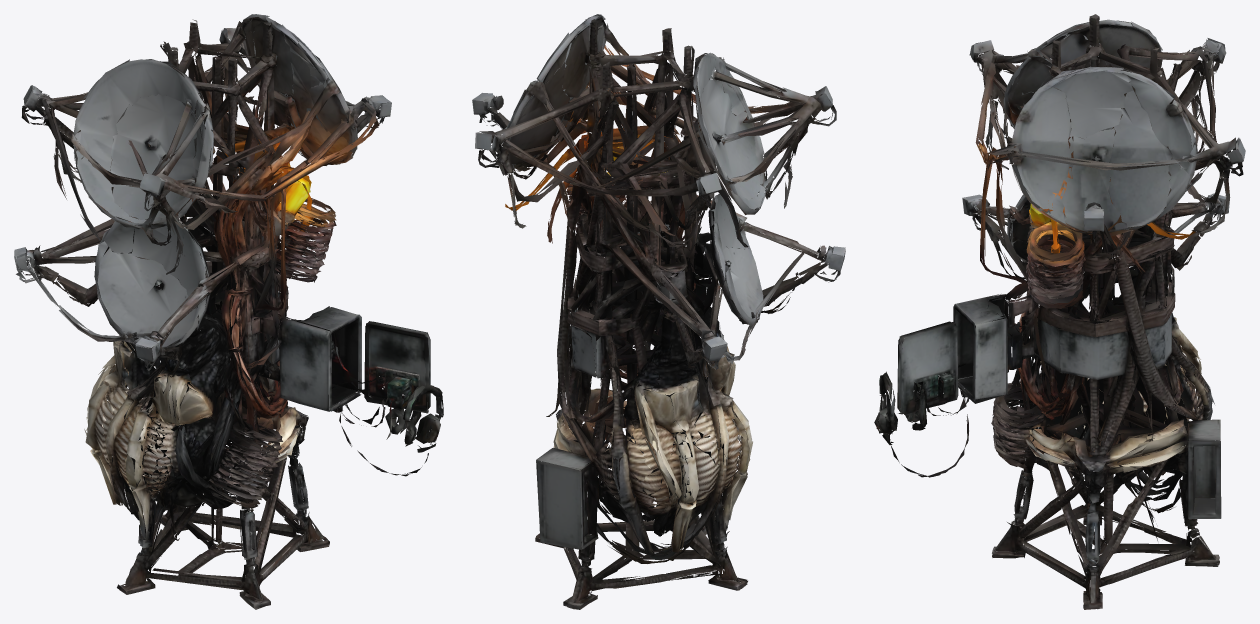
Rendered from crawler_signal_antenna_rig.glb.
3 views of the same model, side by side, from view 1: azimuth 30°, elevation 25°; view 2: azimuth 150°, elevation 25°; view 3: azimuth 270°, elevation 25° (orthographic).
Visible parts, largest first — view 1: node_0; view 2: node_0; view 3: node_0.
Part boxes in pixels (x1,y1,x2,y2): node_0: (14,14,443,609); node_0: (472,14,845,609); node_0: (874,14,1245,609).
Bounding box in the file's own units: 0.6444 × 1.05 × 0.6758.
Materials: 1 (1 with a texture image).
